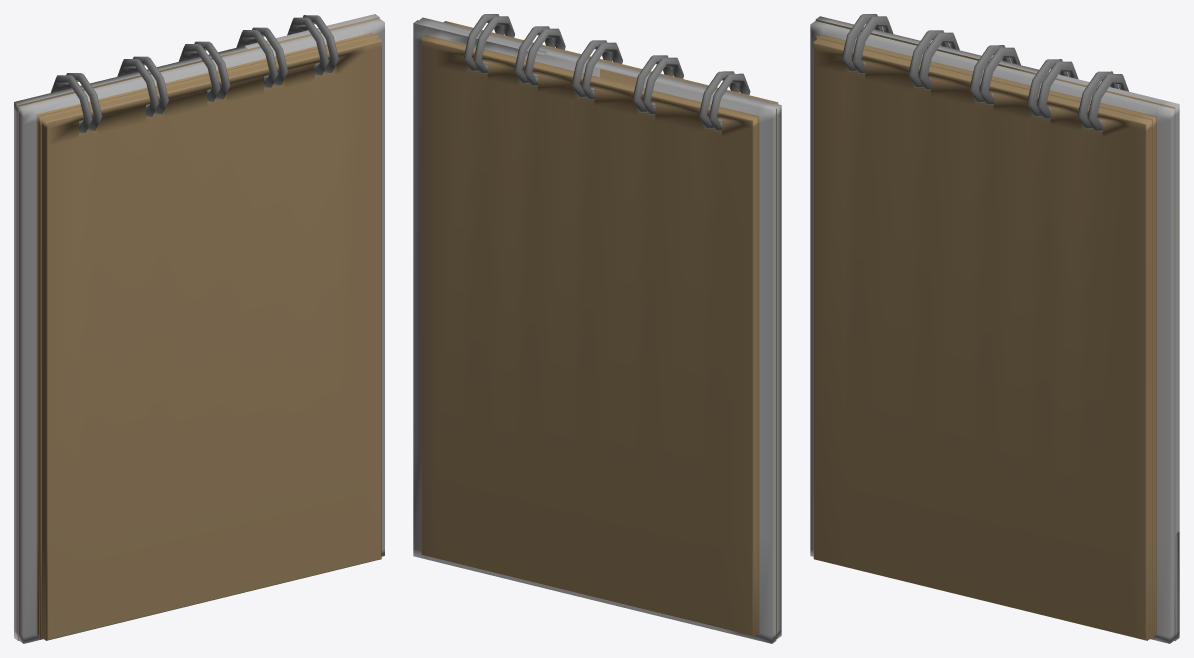
The model's file is notes.fbx.
3 renders of one model, left to right at view 1: azimuth 30°, elevation 25°; view 2: azimuth 150°, elevation 25°; view 3: azimuth 330°, elevation 25°, orthographic.
Parts seen in each view (by area): view 1: Multiverse_Academy_platform_models:pCube1, pTorus6, pTorus5, pTorus4, pTorus3, pTorus2; view 2: Multiverse_Academy_platform_models:pCube1, pTorus5, pTorus6, pTorus3, pTorus4, pTorus2; view 3: Multiverse_Academy_platform_models:pCube1, pTorus6, pTorus4, pTorus5, pTorus2, pTorus3.
Boxes of the visible parts, x1,y1,x2,y2 form: Multiverse_Academy_platform_models:pCube1: (14,14,384,643); pTorus6: (287,15,338,75); pTorus5: (236,27,287,87); pTorus4: (178,41,230,101); pTorus3: (117,56,168,116); pTorus2: (50,73,102,132); Multiverse_Academy_platform_models:pCube1: (413,17,781,643); pTorus5: (514,26,565,85); pTorus6: (463,14,514,73); pTorus3: (632,55,683,114); pTorus4: (571,40,622,99); pTorus2: (698,71,750,131); Multiverse_Academy_platform_models:pCube1: (810,16,1179,643); pTorus6: (1077,71,1128,131); pTorus4: (969,45,1020,104); pTorus5: (1027,59,1078,118); pTorus2: (842,14,893,73); pTorus3: (908,30,959,89).
Bounding box in the file's own units: 43.86 × 64.51 × 8.42.
